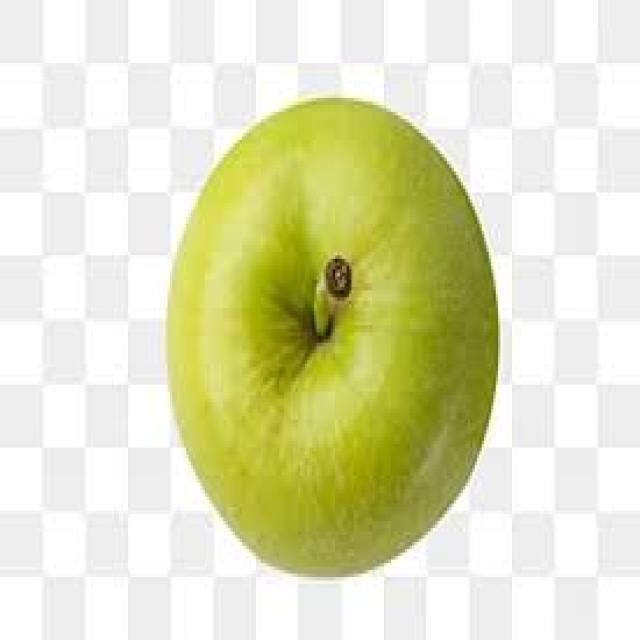Green Apple: (165, 95, 501, 579)
